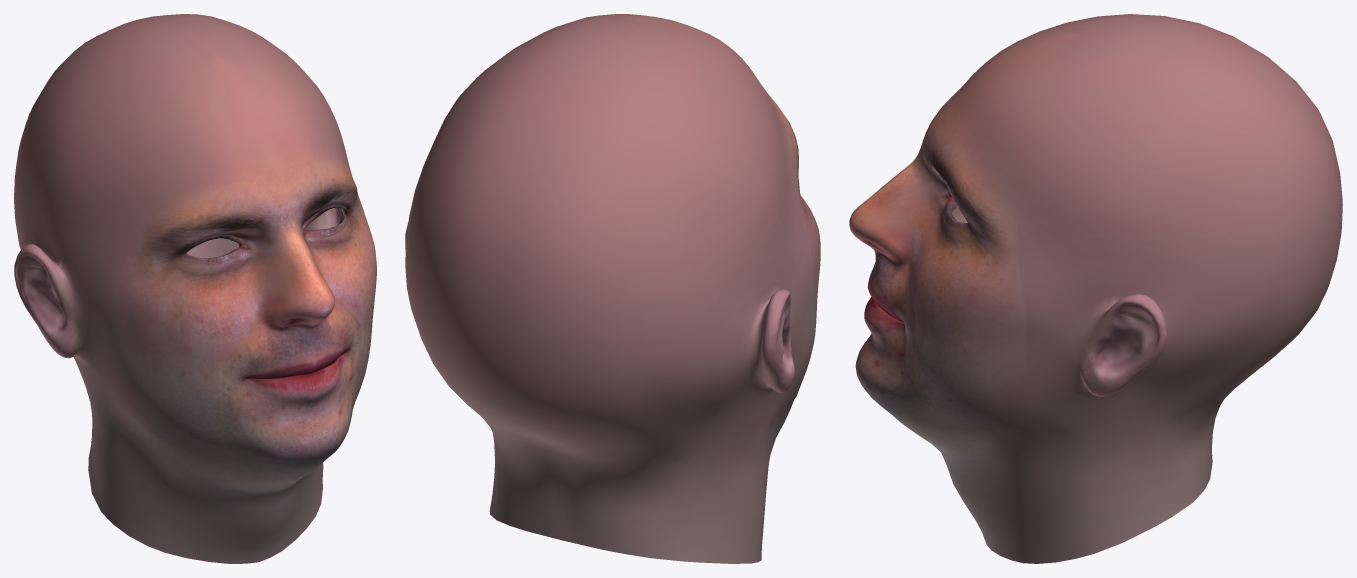
3 views of the same model, side by side, from view 1: azimuth 30°, elevation 25°; view 2: azimuth 150°, elevation 25°; view 3: azimuth 270°, elevation 25° (orthographic). The views are drawn at different scales.
Parts seen in each view (by area): view 1: FaceGen; view 2: FaceGen; view 3: FaceGen.
Part boxes in pixels (x1,y1,x2,y2): FaceGen: (14,14,376,563); FaceGen: (405,14,820,563); FaceGen: (849,14,1342,563).
Size of the model in its own units: 195 by 277 by 242.
1 material, 1 textured.
